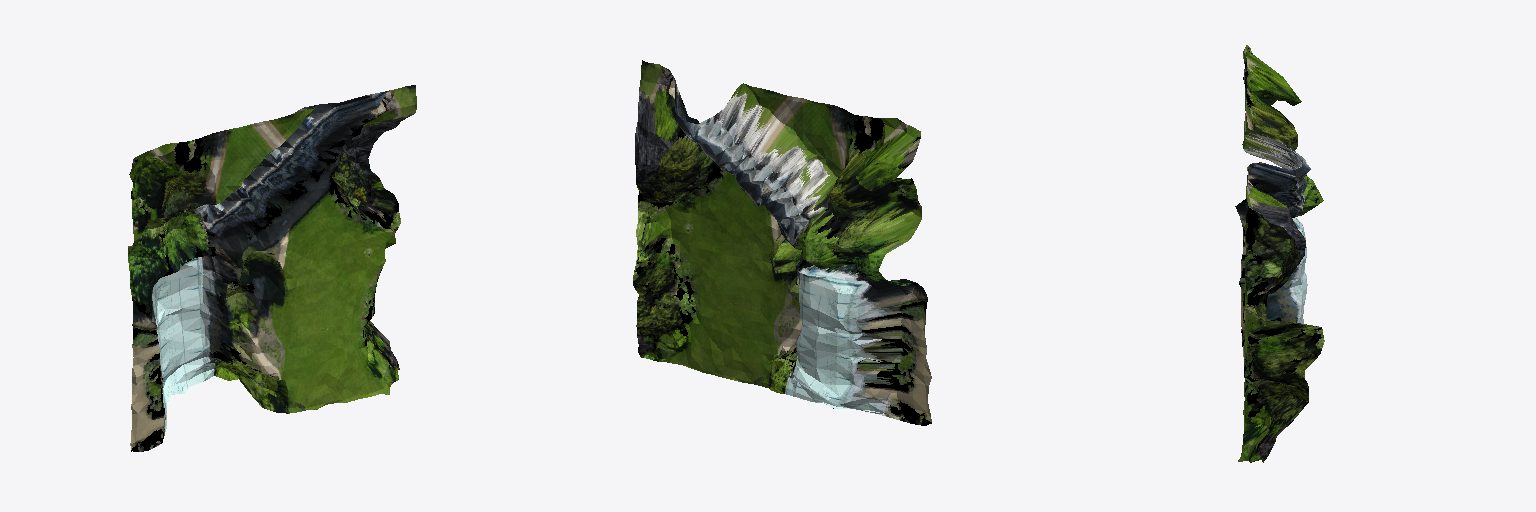
3 renders of one model, left to right at view 1: azimuth 30°, elevation 25°; view 2: azimuth 150°, elevation 25°; view 3: azimuth 270°, elevation 25°, orthographic.
Bounding box in the file's own units: 74.41 × 74.51 × 19.92.
1 materials, 1 textured.